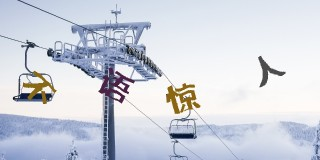不: (22, 70, 56, 104)
人: (256, 55, 286, 88)
惊: (164, 83, 201, 114)
语: (98, 68, 135, 105)
